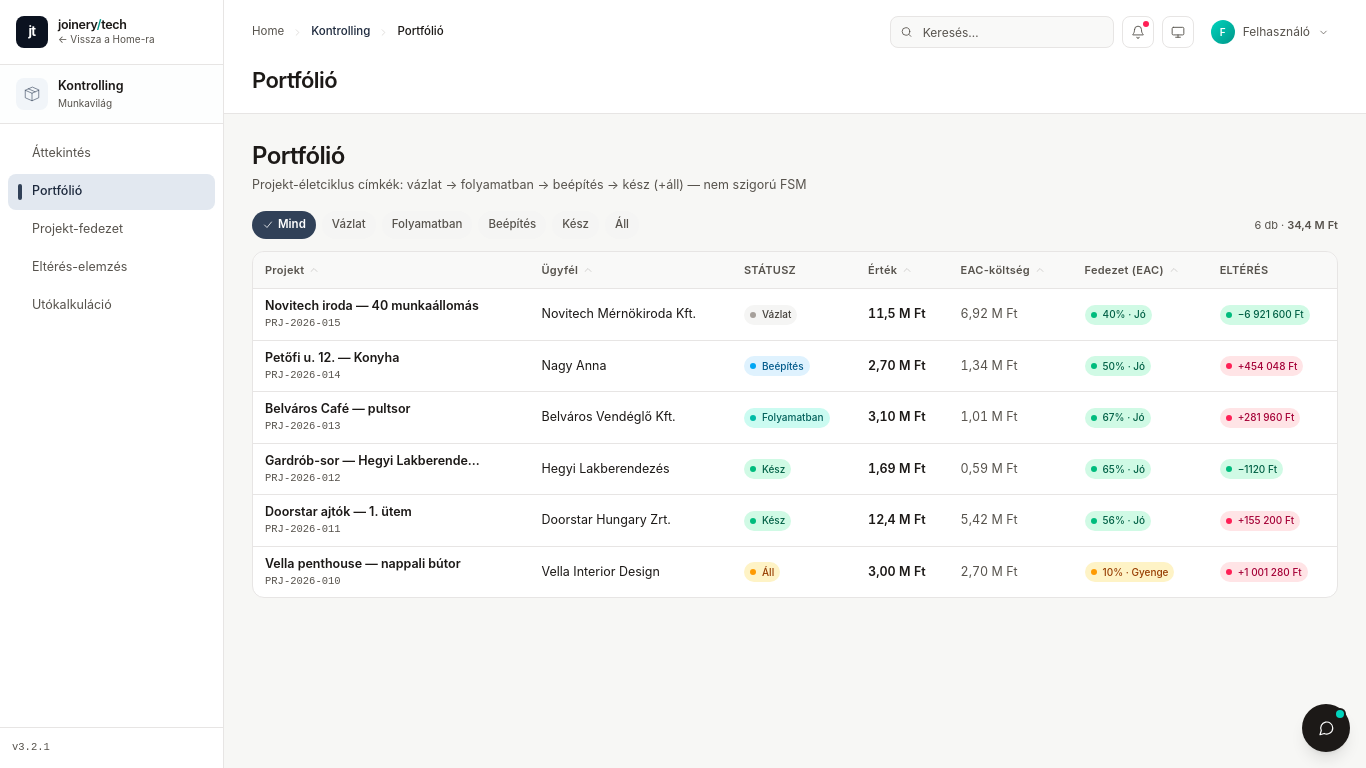
ControllingPage (route-diszpécser, API-vezérelt képernyők) › clicking a portfolio row opens the detail SlideOver with EAC breakdown
Click the text "Petőfi u. 12. — Konyha": (332, 358) [265,349,399,368]
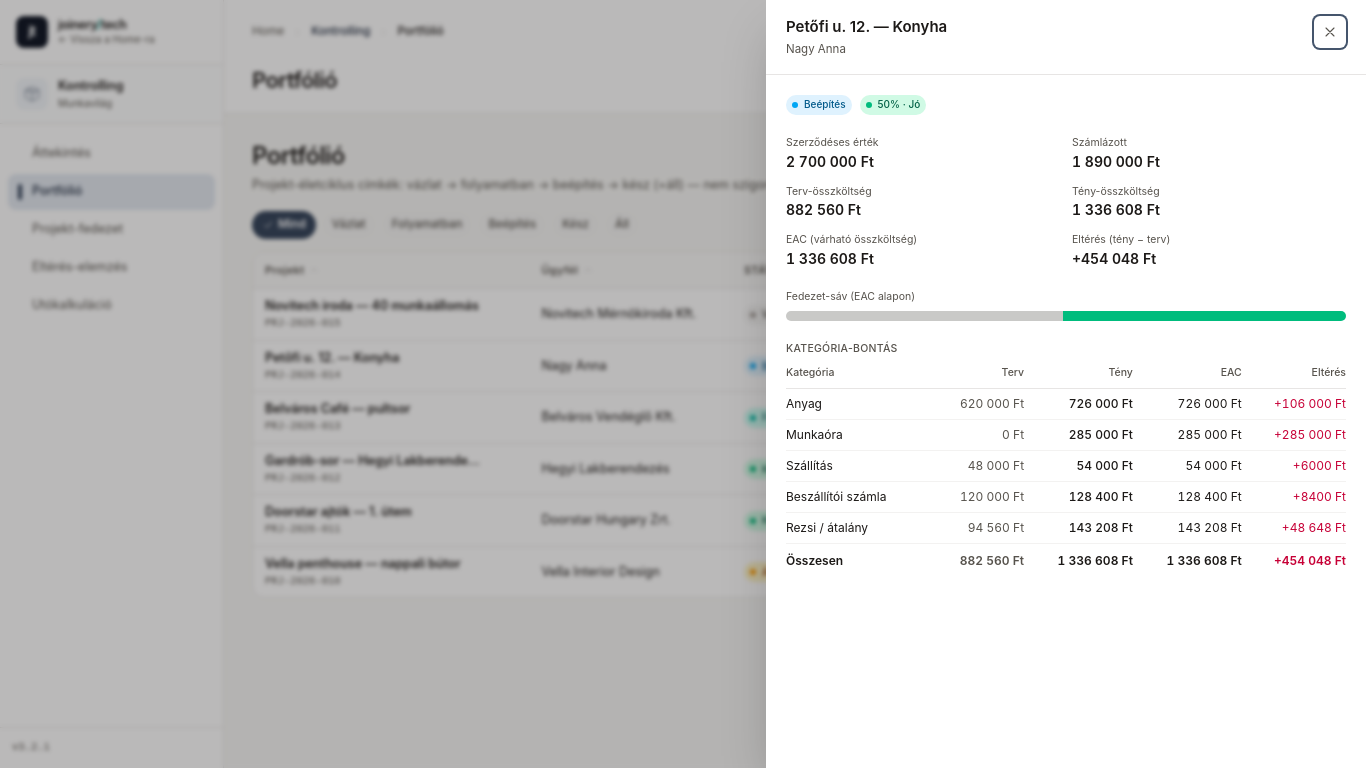
Now the text "EAC (várható összköltség)" is shown, box [786,233,917,246]
Now the dialog is shown, box [766,0,1365,767]
